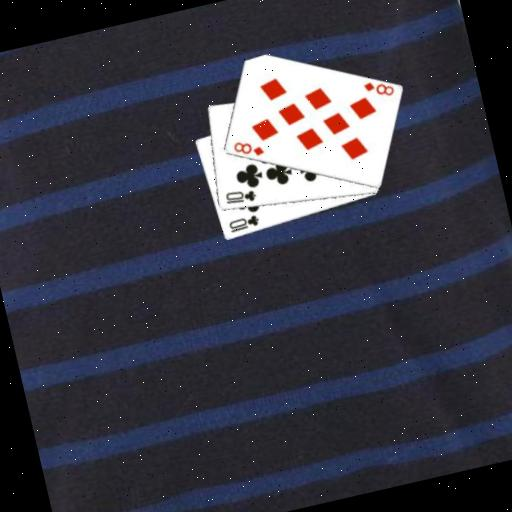10C: (221, 184, 259, 209), (224, 211, 262, 235)
8D: (359, 74, 397, 104), (229, 134, 267, 163)
